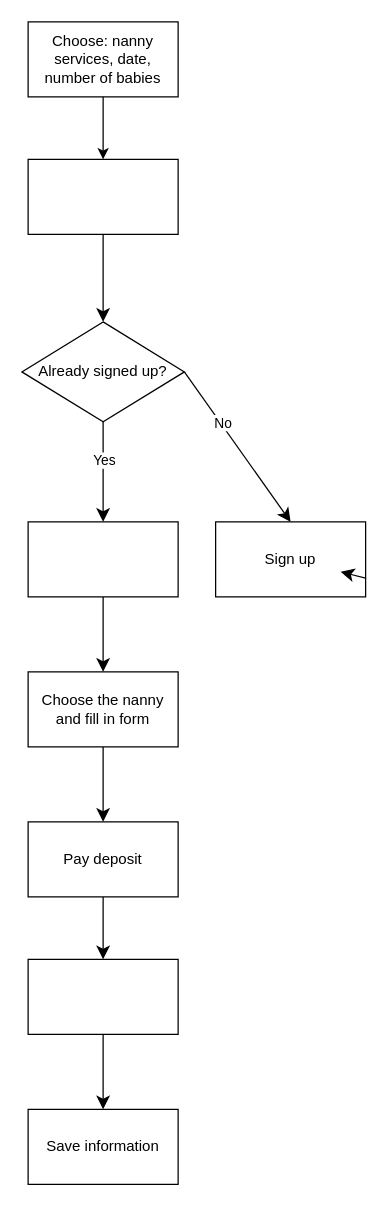
Some shapes in this 388 by 1206 pixel diagram are drawn without their labels. Each missing label, with the centre of its shape:
Book: point 102,196
Send request: point 102,996
Sign in: point 102,559
